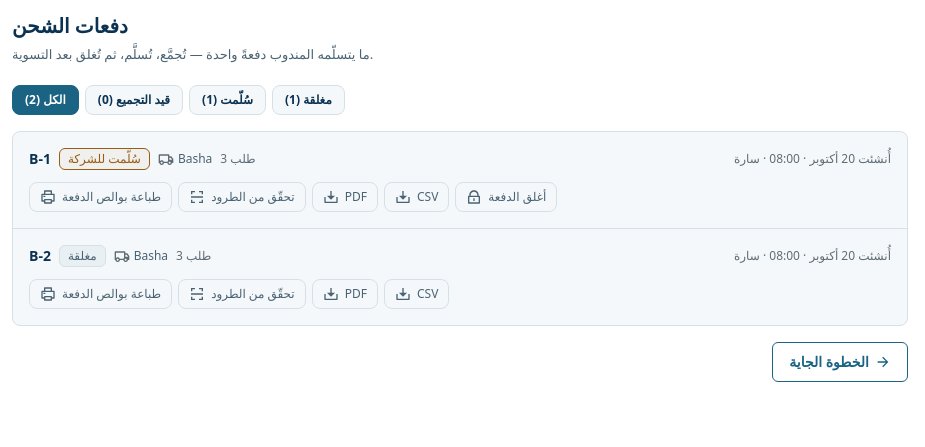
Test: «دفعات الشحن» — an empty TAB is not an empty book › «قيد التجميع» empty while thirty batches were handed over: no tick, a way back to «الكل»
The width and height of the screenshot is (925, 447).
Expected: the button "الكل (2)" is shown, [12,85,79,115]
Click the button "قيد التجميع (0)" at (134, 100), box [85,85,183,115]
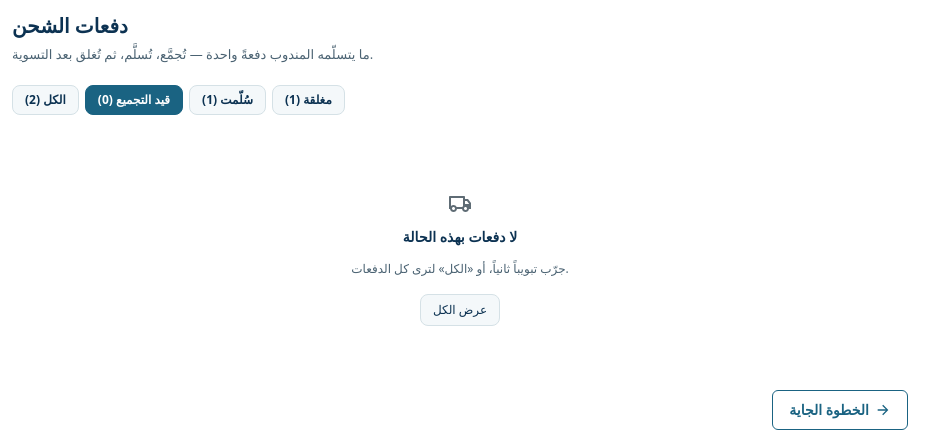
Expected: the text "لا دفعات بهذه الحالة" is shown, [403,227,517,247]
Click the button "عرض الكل" at (460, 310), box [420,294,500,326]
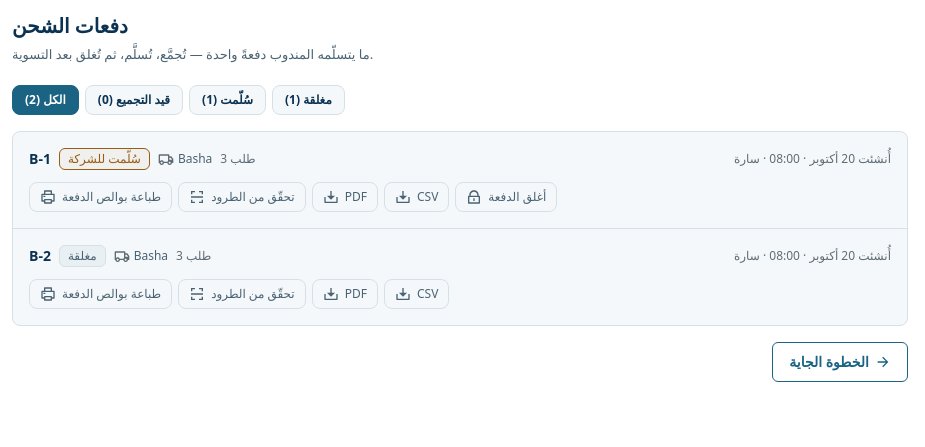
Expected: the text "B-1" is shown, [29,149,51,169]
